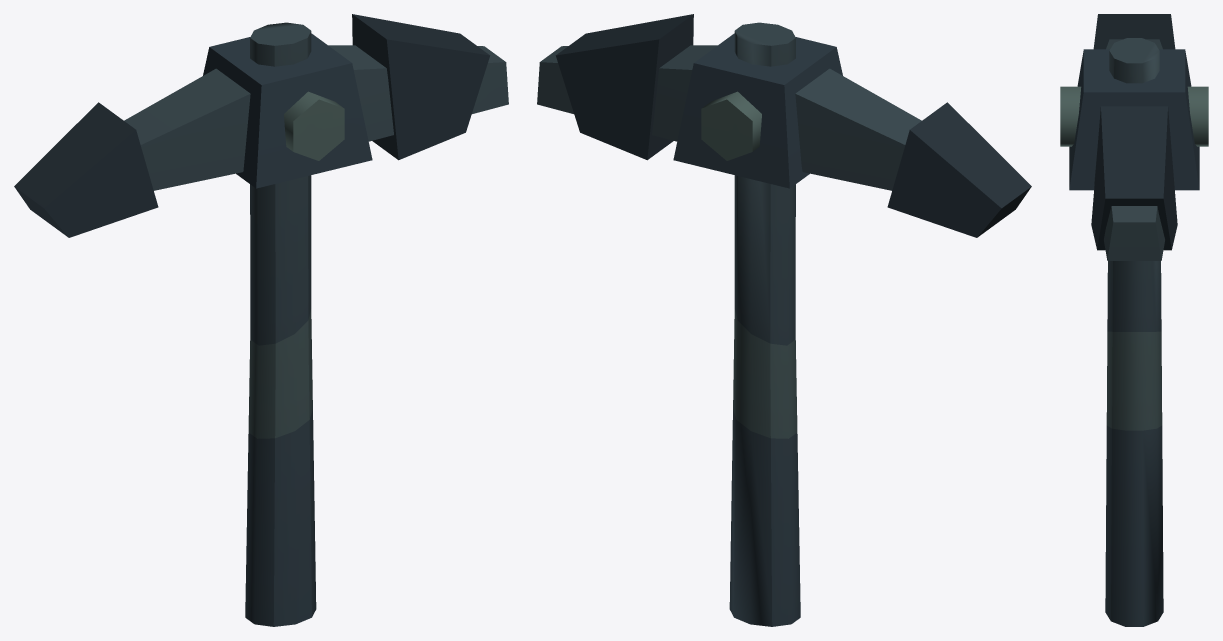
The model's file is 04_pickaxe_metall.fbx.
The picture shows the model from 3 angles, left to right: view 1: azimuth 30°, elevation 25°; view 2: azimuth 150°, elevation 25°; view 3: azimuth 270°, elevation 25°; orthographic projection. The views are drawn at different scales.
Parts seen in each view (by area): view 1: 04_pickaxe_metall; view 2: 04_pickaxe_metall; view 3: 04_pickaxe_metall.
Part boxes in pixels (<box>): 04_pickaxe_metall: <box>14,14,508,626</box>; 04_pickaxe_metall: <box>537,14,1031,626</box>; 04_pickaxe_metall: <box>1060,14,1208,626</box>.
Size of the model in its own units: 94.12 by 112 by 26.76.
